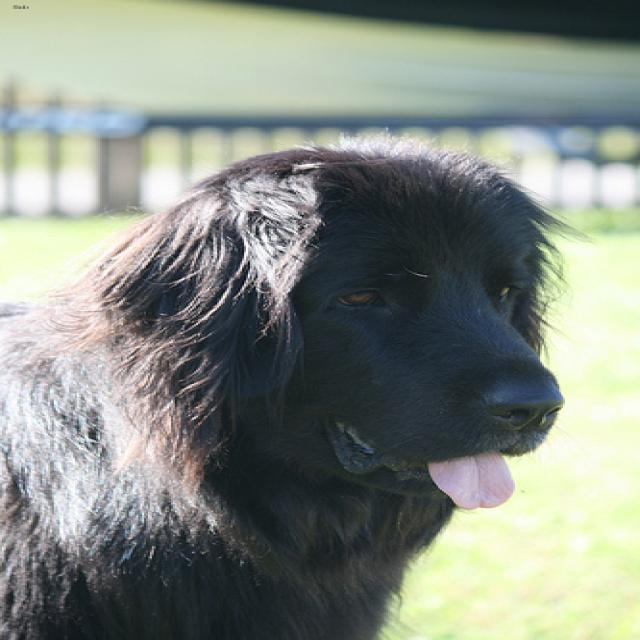dog-newfoundland: (2, 123, 588, 637)
